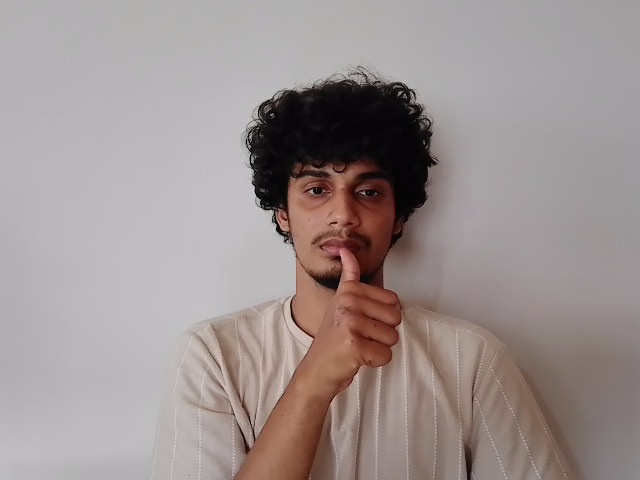drink: (268, 154, 427, 373)
